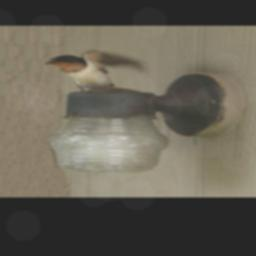Swallow: (44, 48, 147, 91)
